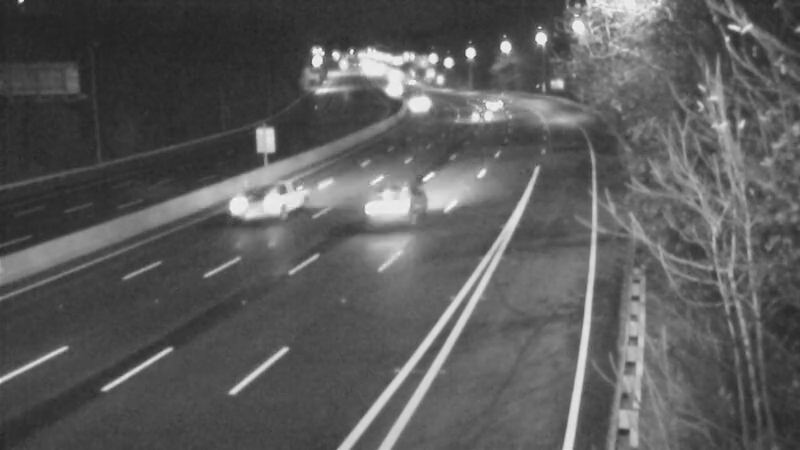vehicle: (357, 161, 437, 241), (223, 161, 303, 241), (366, 65, 416, 115), (392, 77, 442, 127), (467, 75, 517, 125), (456, 95, 506, 145)
